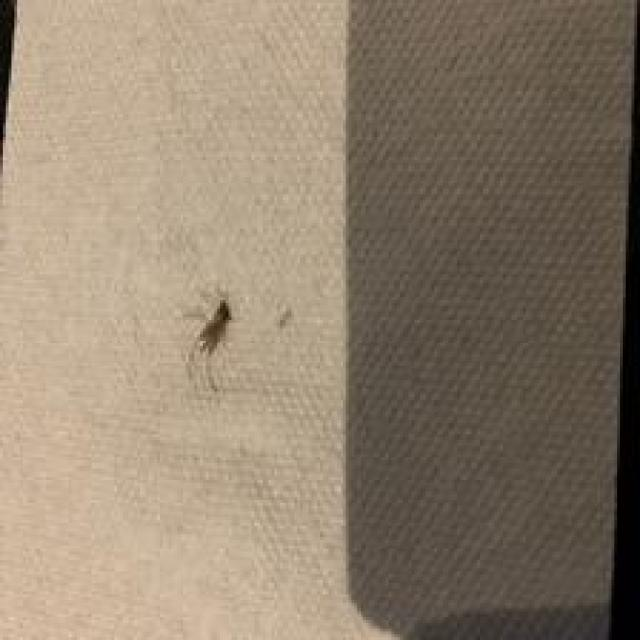Culex: (186, 297, 234, 394)
